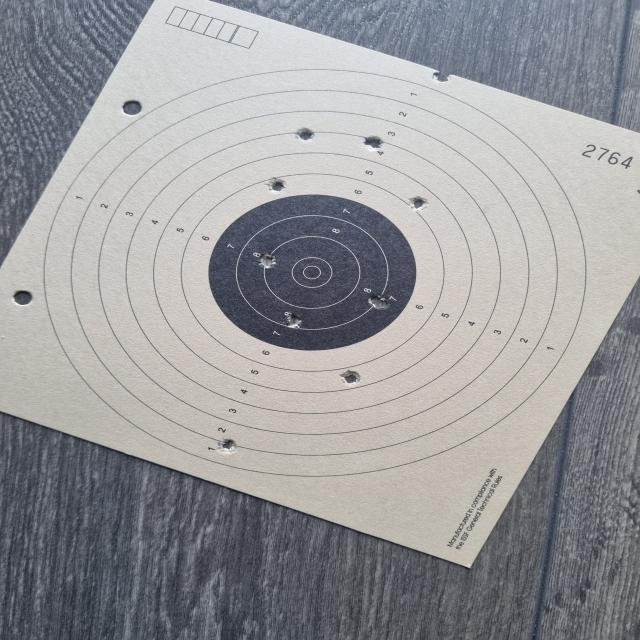10: (255, 252, 278, 270)
3: (216, 438, 238, 454)
5: (360, 133, 386, 154), (294, 126, 316, 140)
6: (338, 369, 362, 387)
7: (404, 194, 432, 213), (264, 176, 288, 193)
8: (380, 296, 390, 312)
9: (282, 312, 304, 328), (366, 294, 380, 311)
Black Contour: (208, 196, 418, 350)
Target: (44, 67, 587, 479)
hole: (432, 70, 458, 86)
